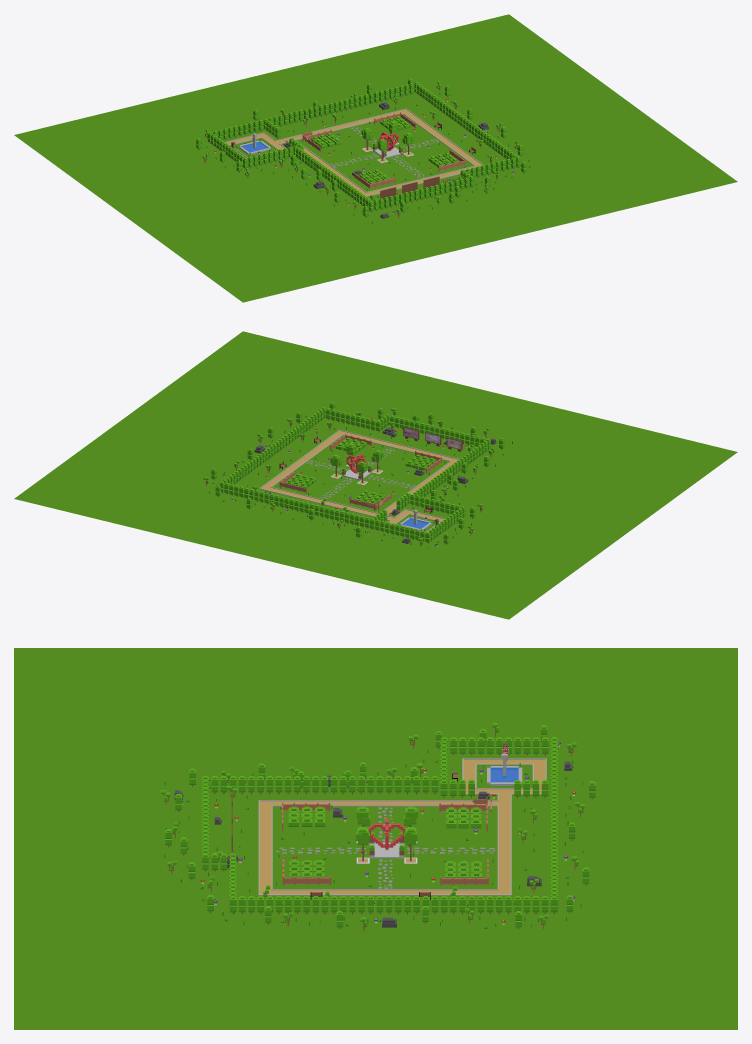
File: Portfolio2.glb
3 views of the same model, one above another, from view 1: azimuth 30°, elevation 25°; view 2: azimuth 150°, elevation 25°; view 3: azimuth 270°, elevation 25° (orthographic). The views are drawn at different scales.
Parts seen in each view (by area): view 1: Level; view 2: Level; view 3: Level.
Boxes of the visible parts, bbox=[...] form: Level: bbox=[14, 14, 737, 302]; Level: bbox=[14, 331, 737, 619]; Level: bbox=[14, 648, 737, 1029].
Size of what is drawn, in the model's own units: 284 by 11.8 by 227.
60 materials, 3 textured.
